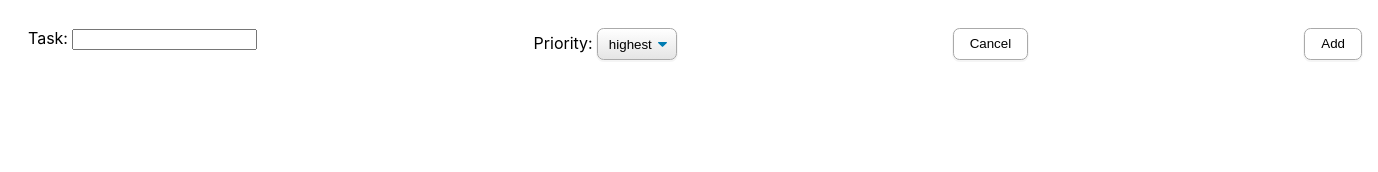
Form › Show error message when content is empty
Select "highest" in the dropdown with id "create-priority" at [637, 44], box [597,28,676,60]
Submit the form, box [28,28,1362,60]
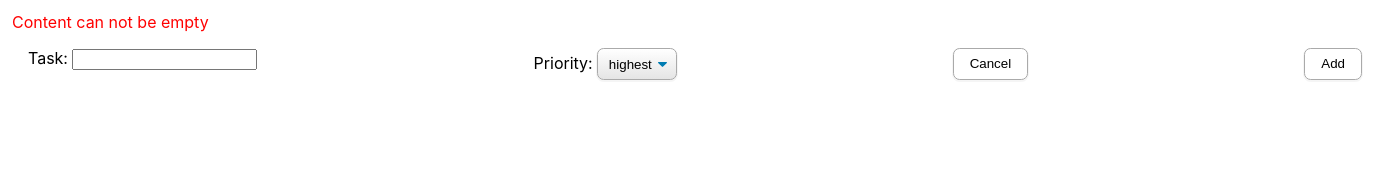
Check: the text "Content can not be empty" is shown, box [12,12,209,32]
